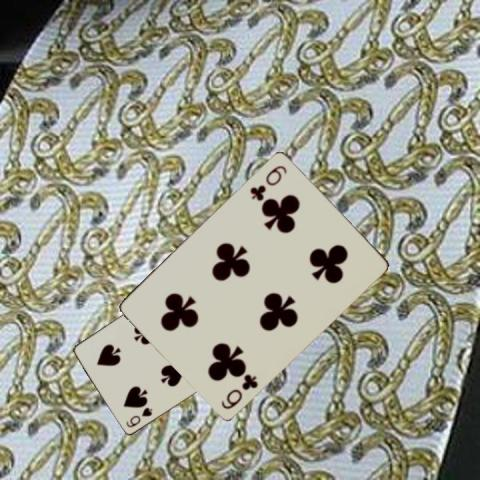6c: (246, 161, 288, 202), (218, 370, 260, 411)
6s: (123, 404, 154, 429)
